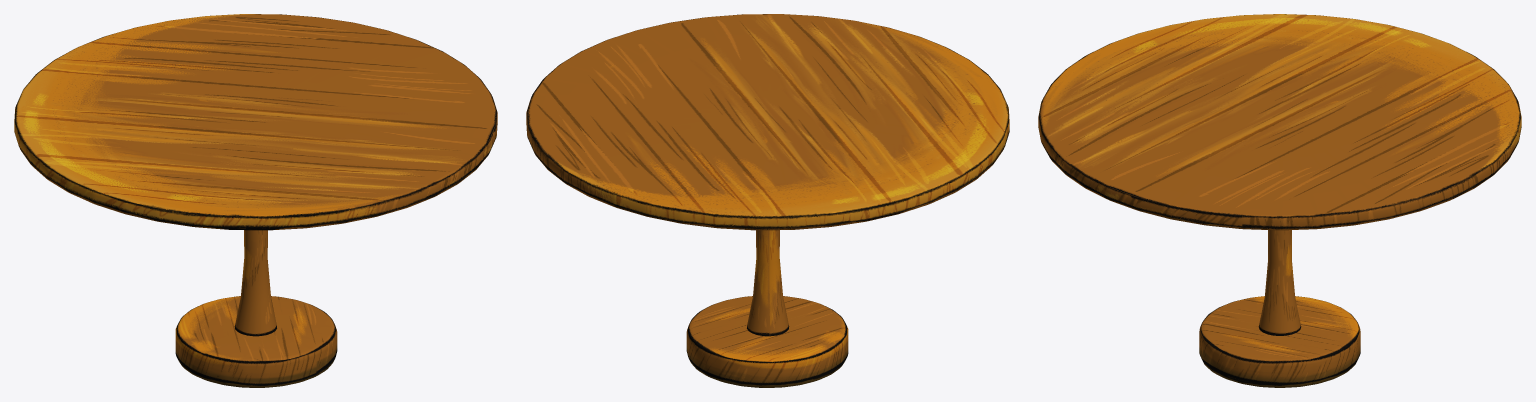
The model's file is Greenhouse_Table_Past_Blank.fbx.
3 renders of one model, left to right at view 1: azimuth 30°, elevation 25°; view 2: azimuth 150°, elevation 25°; view 3: azimuth 270°, elevation 25°, orthographic.
Visible parts, largest first — view 1: pCylinder10, pCylinder11, pCylinder9; view 2: pCylinder10, pCylinder11, pCylinder9; view 3: pCylinder10, pCylinder11, pCylinder9.
Part boxes in pixels (left/top/right/bottom): pCylinder10: left=14, top=14, right=497, bottom=230; pCylinder11: left=175, top=296, right=337, bottom=387; pCylinder9: left=234, top=230, right=276, bottom=336; pCylinder10: left=526, top=14, right=1009, bottom=230; pCylinder11: left=686, top=296, right=848, bottom=387; pCylinder9: left=747, top=230, right=789, bottom=336; pCylinder10: left=1038, top=14, right=1521, bottom=230; pCylinder11: left=1199, top=296, right=1360, bottom=387; pCylinder9: left=1258, top=230, right=1301, bottom=335.
Size of the model in its own units: 7.36 by 4.06 by 7.36.
3 materials, 3 textured.
